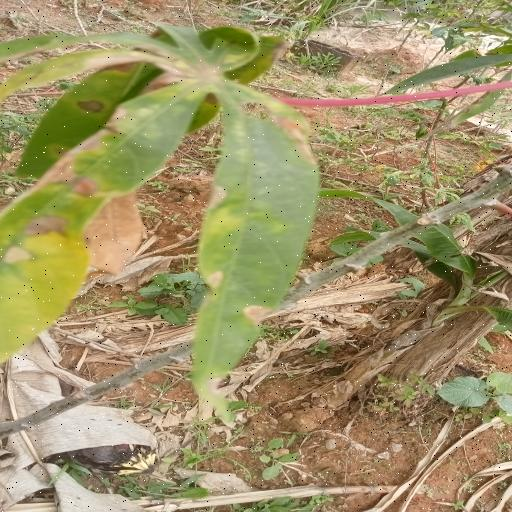Cassava_Root_Rot: (0, 19, 325, 381)
